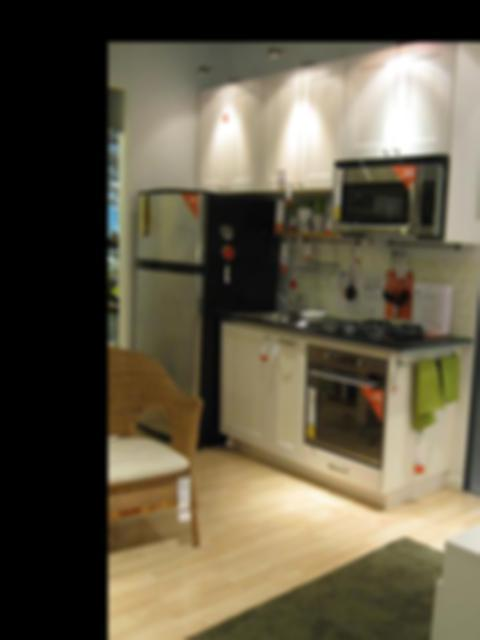Lavaplatos: (246, 290, 318, 339)
